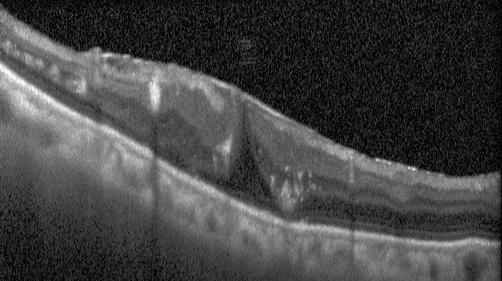subretinal_fluid: (298, 194, 501, 237), (217, 107, 279, 211)
